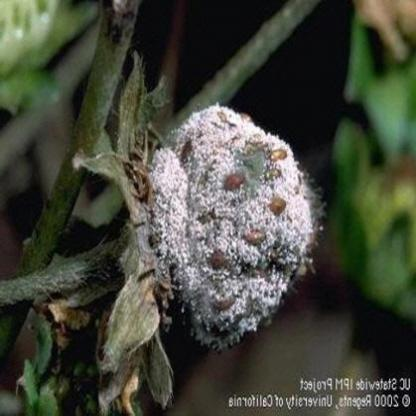Strawberry_Gray_Mold: (134, 104, 327, 353)
